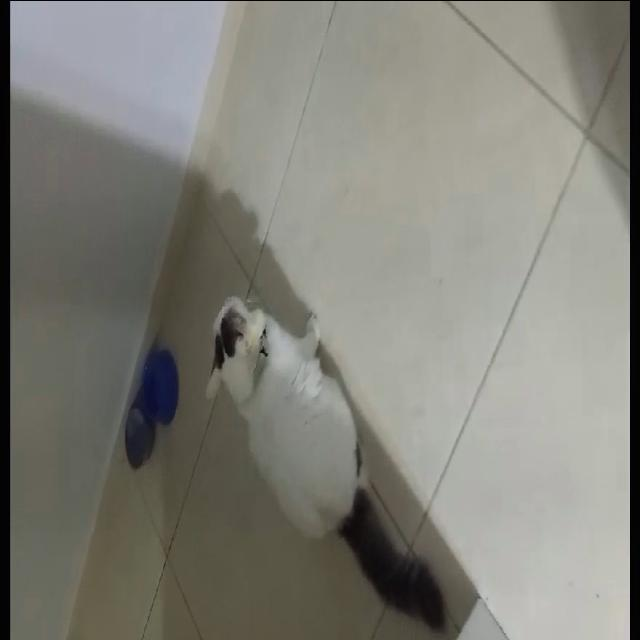Simba: (178, 266, 474, 634)
